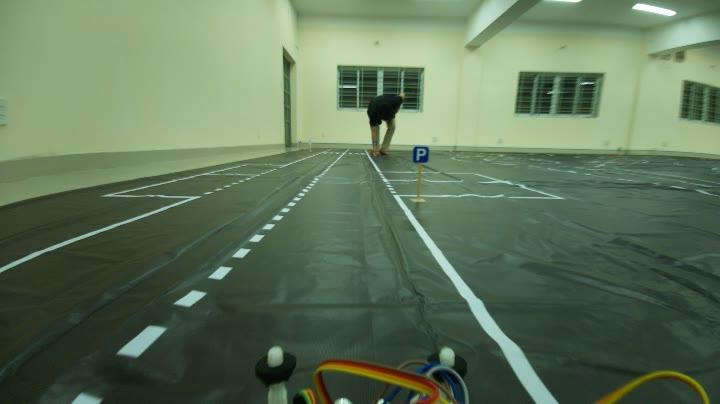parking: (410, 142, 430, 166)
